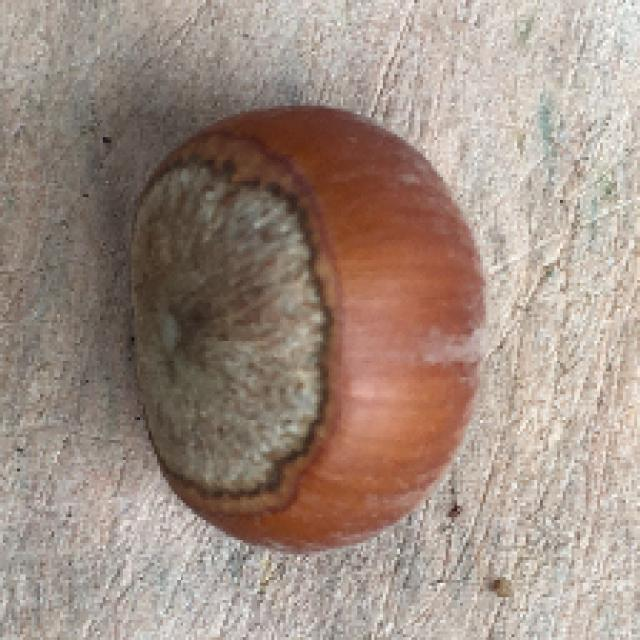qualityHazelnut: (119, 97, 498, 561)
